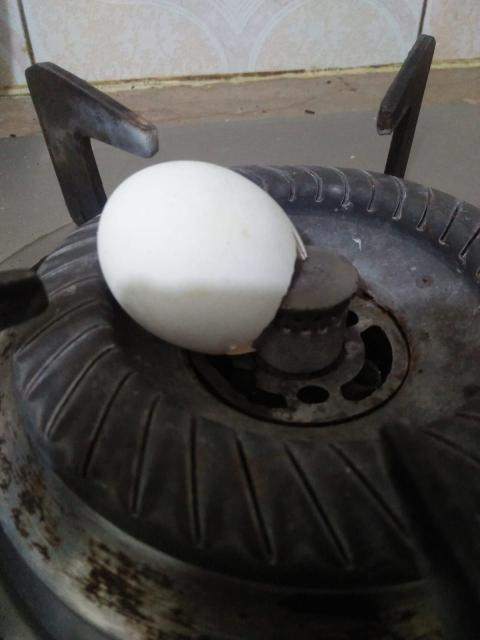Roto: (96, 158, 308, 356)
